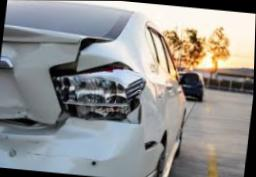Bumper: (0, 120, 165, 177)
Dickey: (0, 23, 115, 135)
Light: (52, 65, 147, 125)
